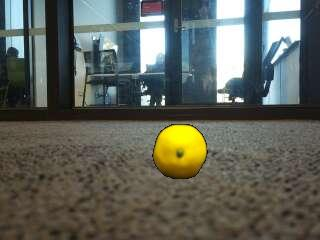lemon: (153, 126, 205, 180)
